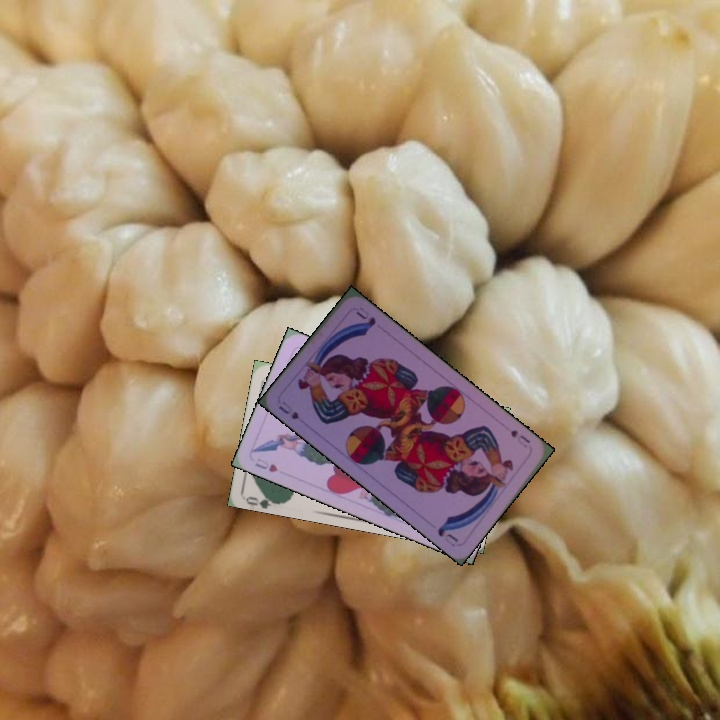GO: (243, 487, 284, 509)
HU: (251, 454, 281, 475)
SU: (274, 397, 302, 422), (506, 426, 533, 451)
